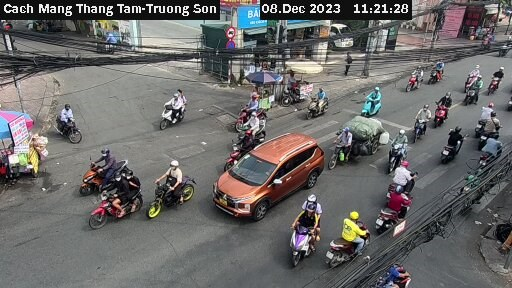car: (210, 131, 326, 217)
motorbike: (275, 200, 329, 263), (84, 181, 146, 224), (70, 149, 128, 190), (372, 189, 417, 237), (147, 173, 198, 214), (324, 213, 365, 264), (49, 106, 98, 148), (381, 162, 426, 204), (435, 123, 478, 166), (150, 94, 196, 127), (299, 86, 340, 121), (381, 132, 422, 166), (231, 97, 271, 126), (353, 85, 389, 116), (326, 130, 358, 164), (420, 56, 456, 85), (475, 113, 512, 141), (475, 132, 505, 166), (397, 64, 430, 92), (427, 93, 460, 121), (408, 103, 436, 133), (228, 120, 263, 143), (488, 66, 512, 95), (460, 80, 487, 104), (453, 61, 477, 83), (221, 143, 245, 163)
